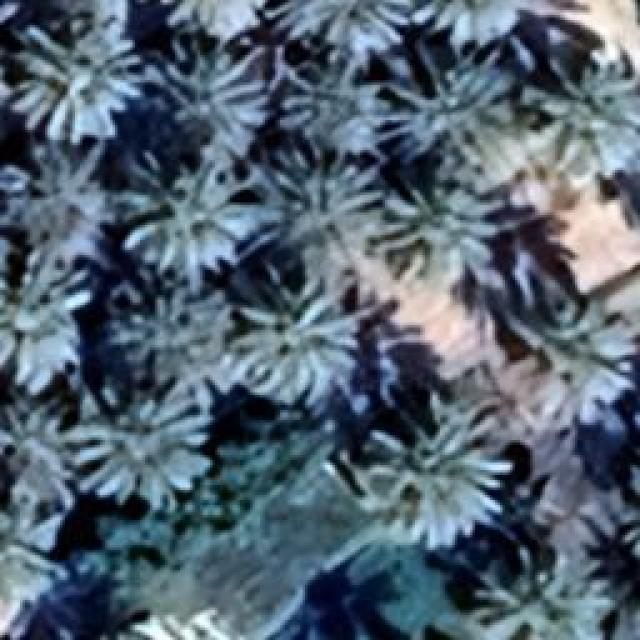PalmTree: (35, 11, 119, 459), (360, 384, 520, 558), (118, 150, 258, 288), (378, 42, 518, 178), (225, 268, 358, 410), (5, 10, 145, 140), (70, 385, 210, 510), (370, 180, 515, 298), (528, 50, 638, 180), (524, 300, 638, 425), (0, 140, 110, 265), (152, 38, 270, 152), (468, 550, 620, 638), (0, 250, 88, 388), (110, 289, 212, 389), (262, 172, 372, 262), (278, 60, 372, 158), (0, 494, 62, 637), (275, 0, 420, 60), (272, 0, 409, 52), (404, 0, 538, 40), (160, 0, 262, 38), (618, 448, 640, 576), (621, 459, 640, 574)
